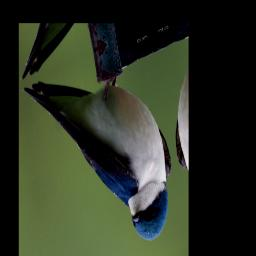Swallow: (22, 26, 183, 256)
